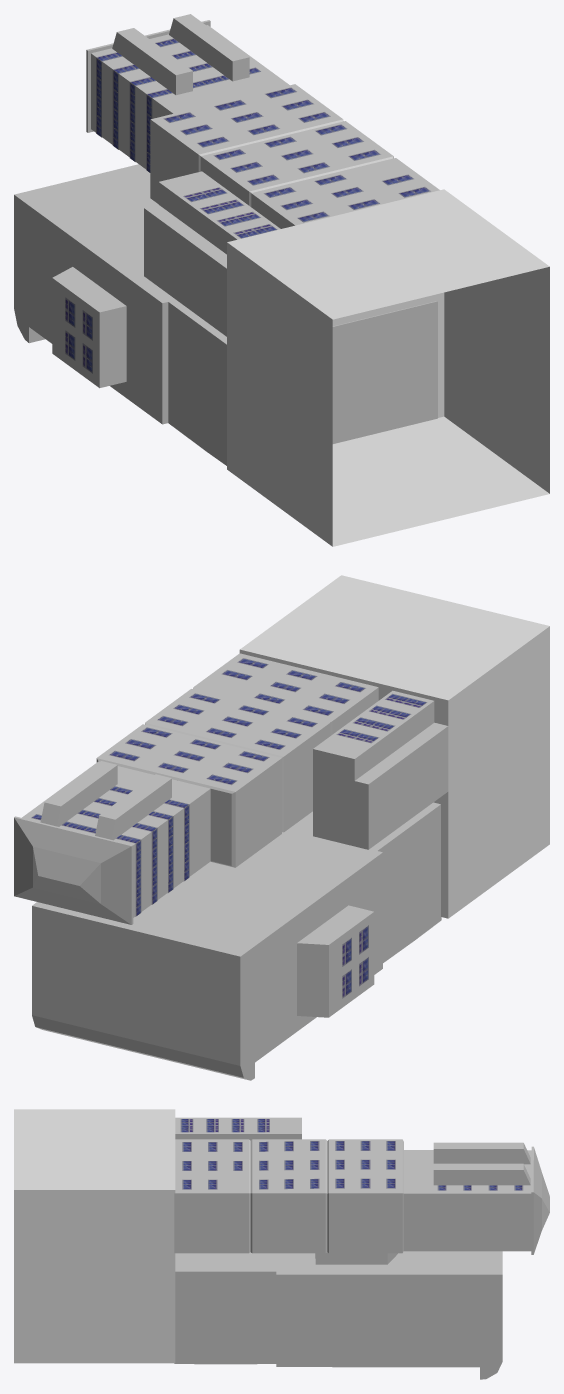
File: block_tall_02.FBX
The picture shows the model from 3 angles, top to bottom: view 1: azimuth 30°, elevation 25°; view 2: azimuth 150°, elevation 25°; view 3: azimuth 270°, elevation 25°; orthographic projection. The views are drawn at different scales.
Visible parts, largest first — view 1: Plane002, building_apartment_9s003, building_8s_005, Box1040, building_apartment_6s, Object090, addon001; view 2: building_8s_005, Plane002, building_apartment_9s003, building_apartment_6s, Object090, Box1040, addon001; view 3: Plane002, building_apartment_9s003, building_8s_005, building_apartment_6s, Box1040, Object090, addon002.
Boxes of the visible parts, x1,y1,x2,y2 form: Plane002: (227, 189, 549, 546); building_apartment_9s003: (150, 84, 439, 228); building_8s_005: (14, 164, 175, 424); Box1040: (168, 300, 437, 465); building_apartment_6s: (86, 14, 289, 172); Object090: (144, 171, 280, 336); addon001: (52, 267, 126, 388); building_8s_005: (32, 829, 382, 1080); Plane002: (239, 575, 549, 918); building_apartment_9s003: (96, 653, 378, 867); building_apartment_6s: (14, 761, 210, 924); Object090: (313, 690, 448, 849); Box1040: (289, 802, 441, 962); addon001: (297, 905, 374, 1017); Plane002: (14, 1109, 175, 1363); building_apartment_9s003: (174, 1139, 403, 1253); building_8s_005: (276, 1251, 502, 1379); building_apartment_6s: (404, 1142, 549, 1254); Box1040: (174, 1252, 276, 1364); Object090: (175, 1117, 301, 1140); addon002: (315, 1252, 397, 1264).
Size of the model in its own units: 33.78 by 34.56 by 84.09.
